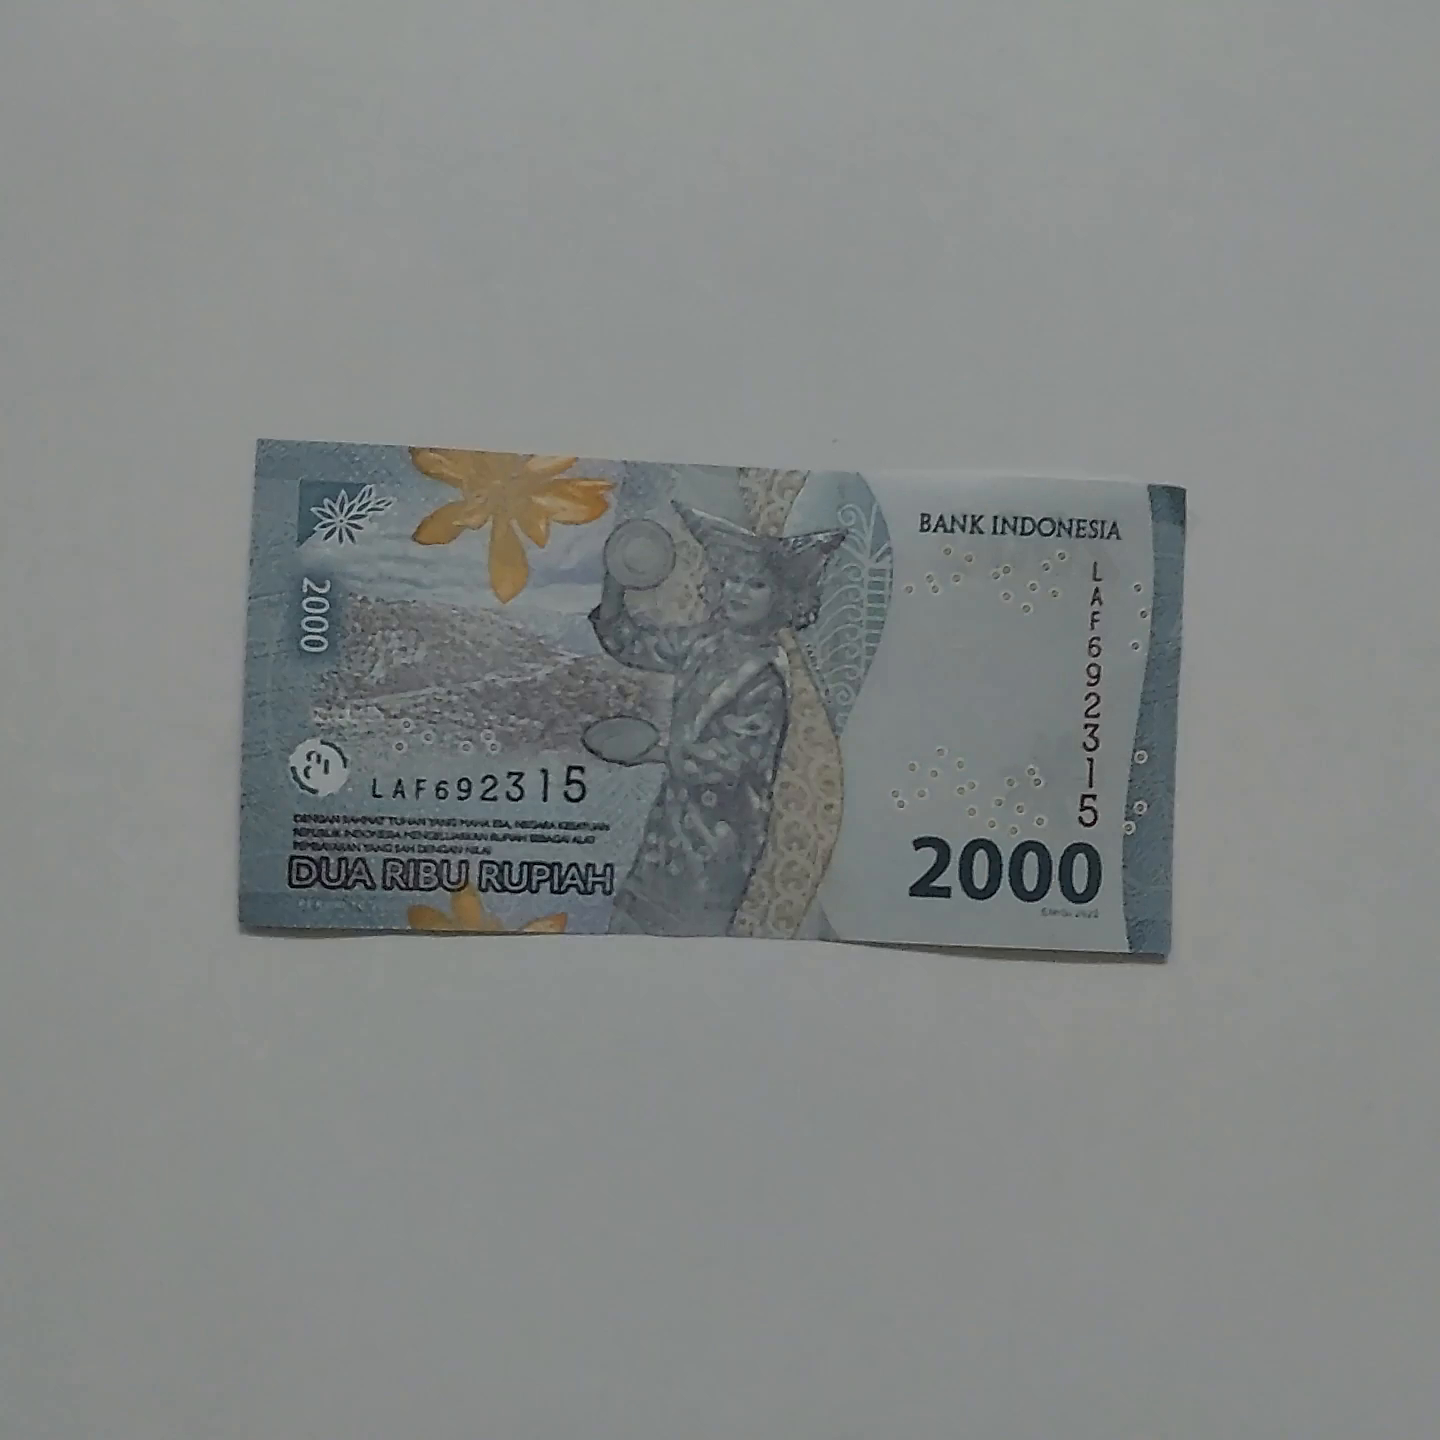2k: (215, 402, 1209, 1007)
